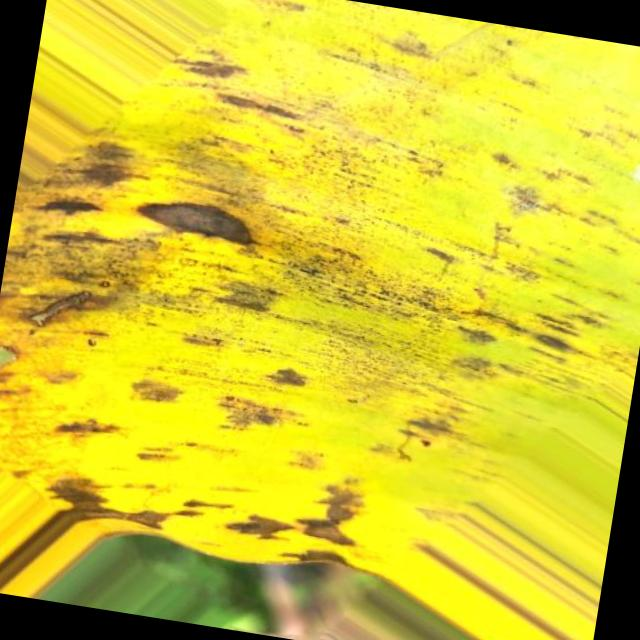Banana_Black_Sigatoka: (0, 6, 287, 454), (288, 58, 640, 397), (0, 360, 408, 588)
